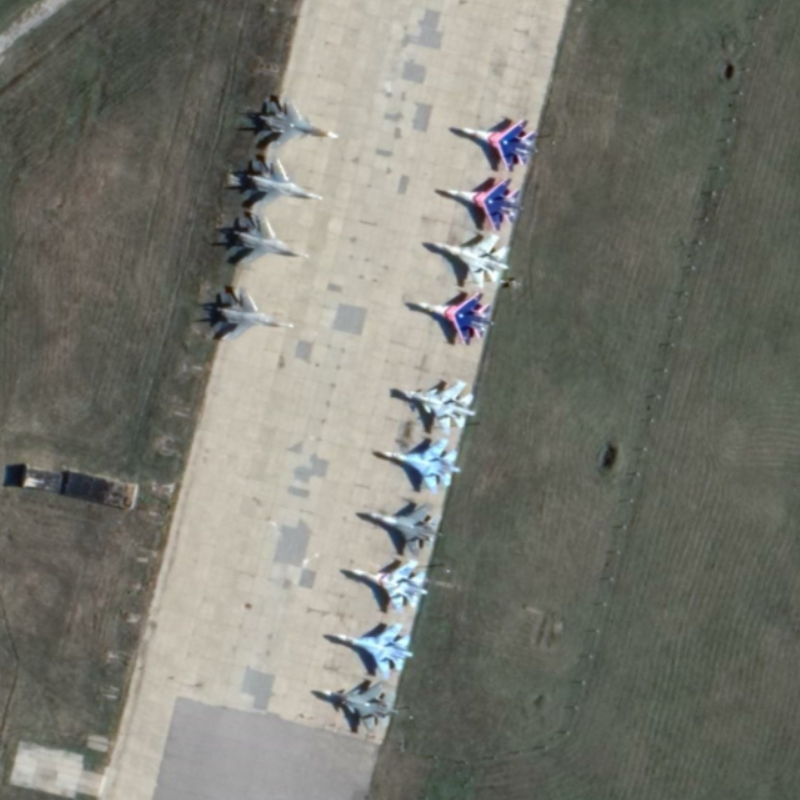A1: (210, 284, 296, 345), (334, 620, 415, 682), (379, 436, 463, 495), (240, 156, 325, 213), (443, 175, 525, 234), (414, 290, 495, 349), (459, 116, 541, 173), (430, 233, 512, 290), (348, 558, 430, 615), (226, 214, 311, 268), (366, 499, 443, 558)
A19: (256, 95, 342, 148), (402, 378, 478, 437), (320, 681, 401, 733)
